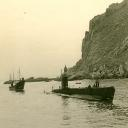submarine: (53, 71, 118, 104)
